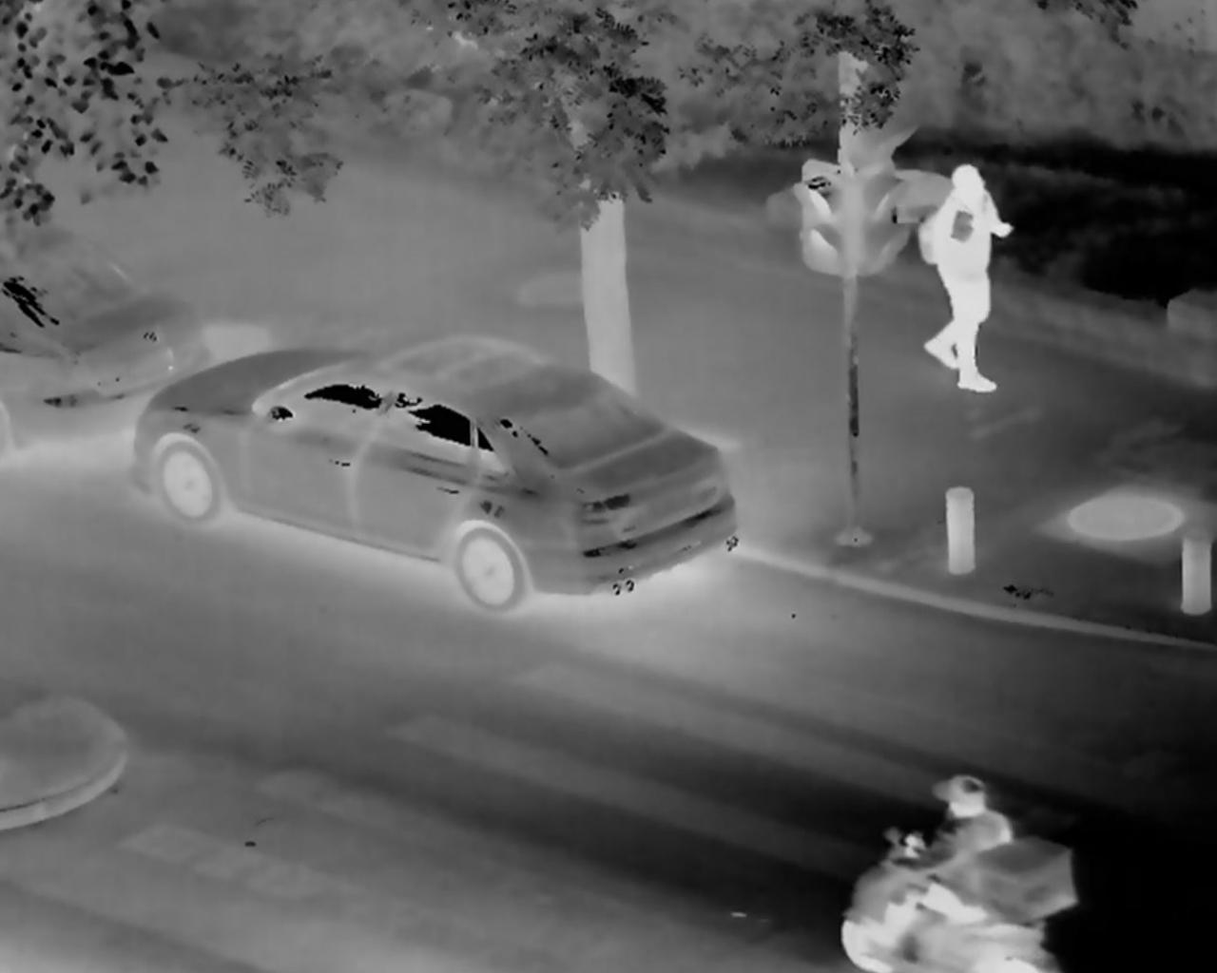person: (827, 755, 1046, 973), (913, 143, 1030, 410)
